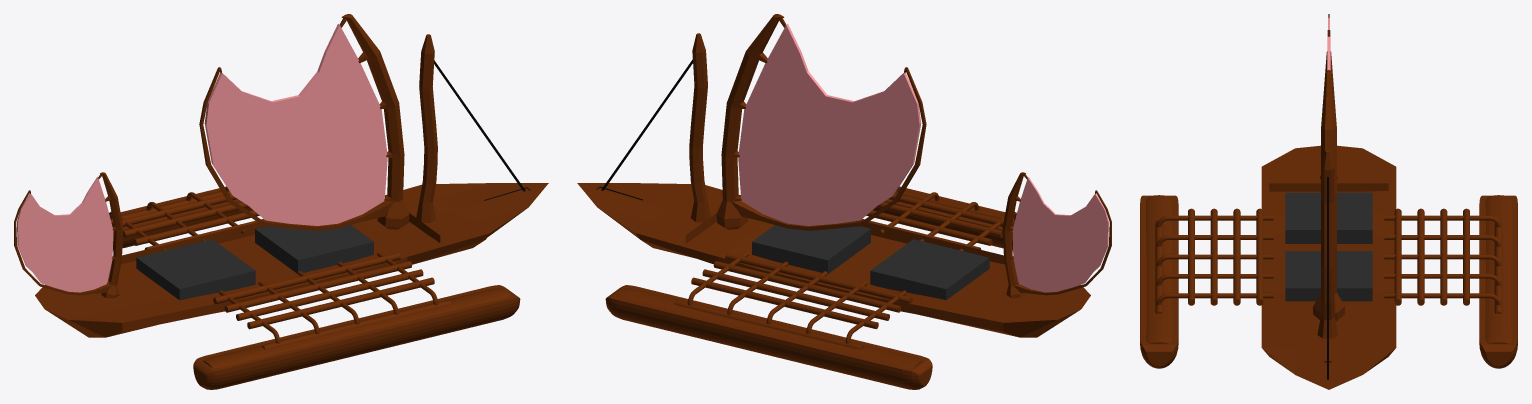
Rendered from skiff.fbx.
3 renders of one model, left to right at view 1: azimuth 30°, elevation 25°; view 2: azimuth 150°, elevation 25°; view 3: azimuth 270°, elevation 25°, orthographic.
Parts seen in each view (by area): view 1: Body, sail, rigth support, sail.001, left support, main sail spine, smaller sail spine, main sail spine.001, smaller sail spine.001; view 2: Body, sail, left support, sail.001, rigth support, main sail spine, smaller sail spine, main sail spine.001, smaller sail spine.001; view 3: Body, rigth support, left support, main sail spine.
Part boxes in pixels (<box>): Body: <box>35,34,548,337</box>; sail: <box>204,24,387,225</box>; rigth support: <box>193,252,520,389</box>; sail.001: <box>17,177,113,292</box>; left support: <box>109,186,265,251</box>; main sail spine: <box>339,14,409,229</box>; smaller sail spine: <box>199,67,394,230</box>; main sail spine.001: <box>98,172,123,298</box>; smaller sail spine.001: <box>14,190,112,295</box>; Body: <box>577,33,1090,337</box>; sail: <box>738,24,921,225</box>; left support: <box>605,252,932,389</box>; sail.001: <box>1012,177,1108,292</box>; rigth support: <box>860,186,1016,251</box>; main sail spine: <box>716,14,786,229</box>; smaller sail spine: <box>731,67,926,230</box>; main sail spine.001: <box>1002,172,1027,298</box>; smaller sail spine.001: <box>1013,190,1111,295</box>; Body: <box>1261,145,1396,389</box>; rigth support: <box>1140,195,1273,368</box>; left support: <box>1384,195,1517,368</box>; main sail spine: <box>1313,70,1344,321</box>.
Size of the model in its own units: 2708 by 1258 by 1643.
